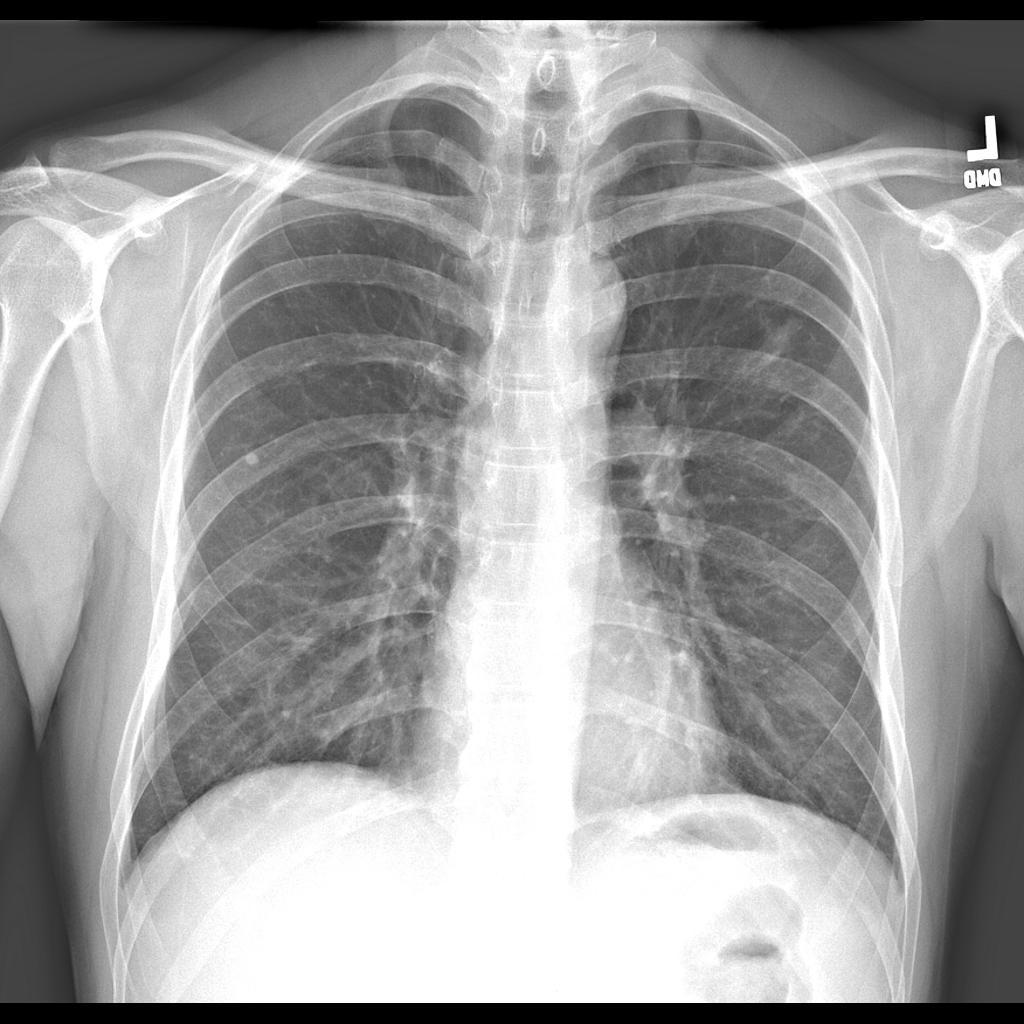Nodule: (758, 322, 801, 363)
